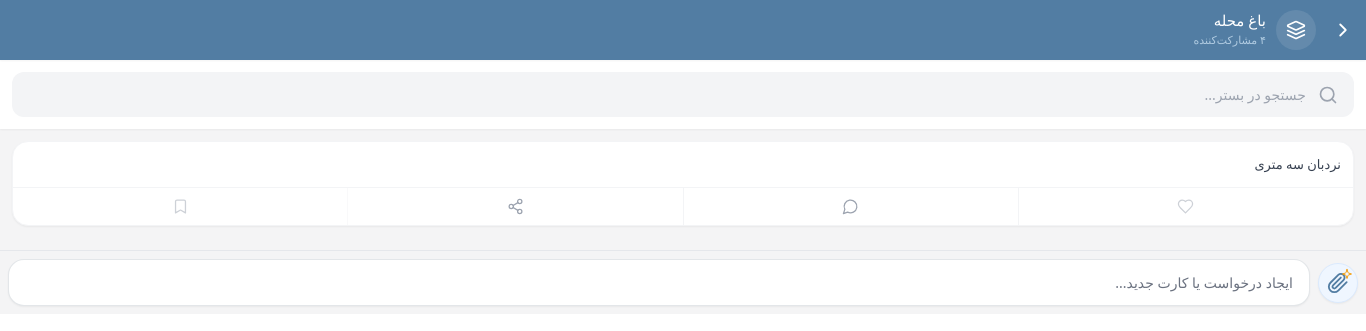
Test: SpacePage: a space looks like a conversation › says so plainly when a search inside the space finds nothing
The width and height of the screenshot is (1366, 331).
Check: the text "نردبان سه متری" is shown, box [1254,155,1341,173]
Step 1. Type "چیزی که نیست" into the field labelled "جستجو در بستر" → (683, 94), box [12,72,1354,117]
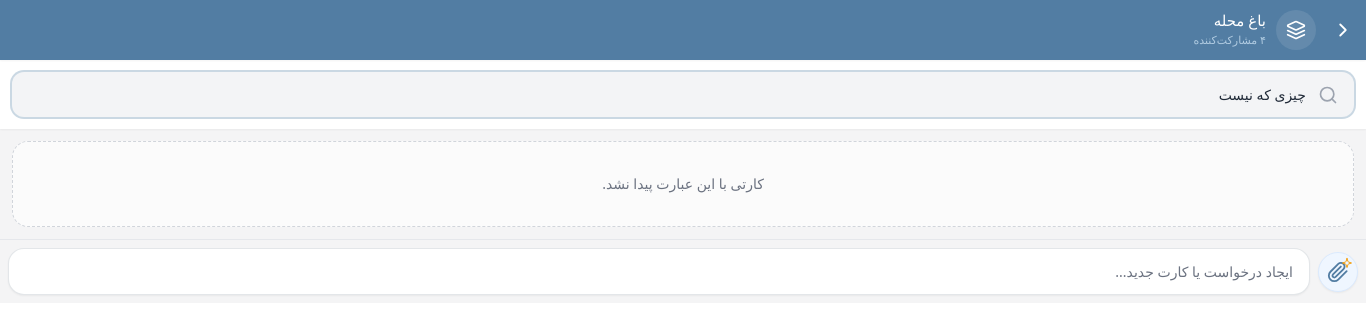
Check: the text "کارتی با این عبارت پیدا نشد." is shown, box [12,141,1354,227]
